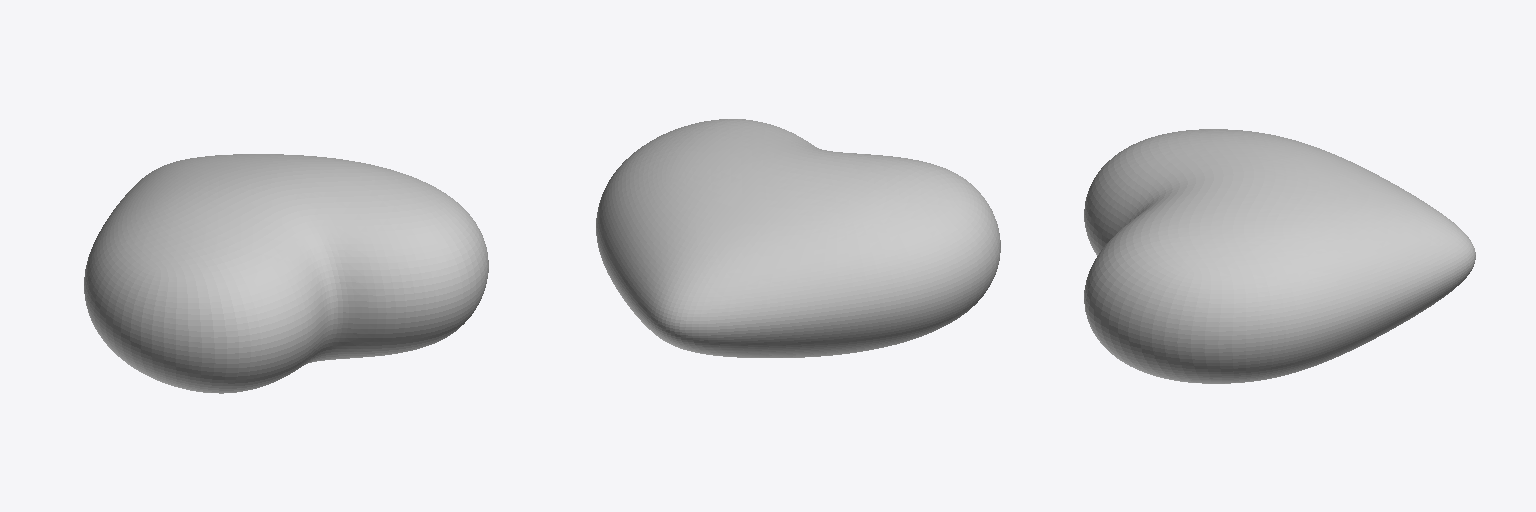
Rendered from heart.obj.
The picture shows the model from 3 angles: view 1: azimuth 30°, elevation 25°; view 2: azimuth 150°, elevation 25°; view 3: azimuth 270°, elevation 25°; orthographic projection.
Parts seen in each view (by area): view 1: Heart; view 2: Heart; view 3: Heart.
Boxes of the visible parts, <box> form: Heart: <box>84,154,488,393</box>; Heart: <box>596,119,1000,357</box>; Heart: <box>1084,129,1475,383</box>.
Size of the model in its own units: 21.25 by 9.14 by 19.91.